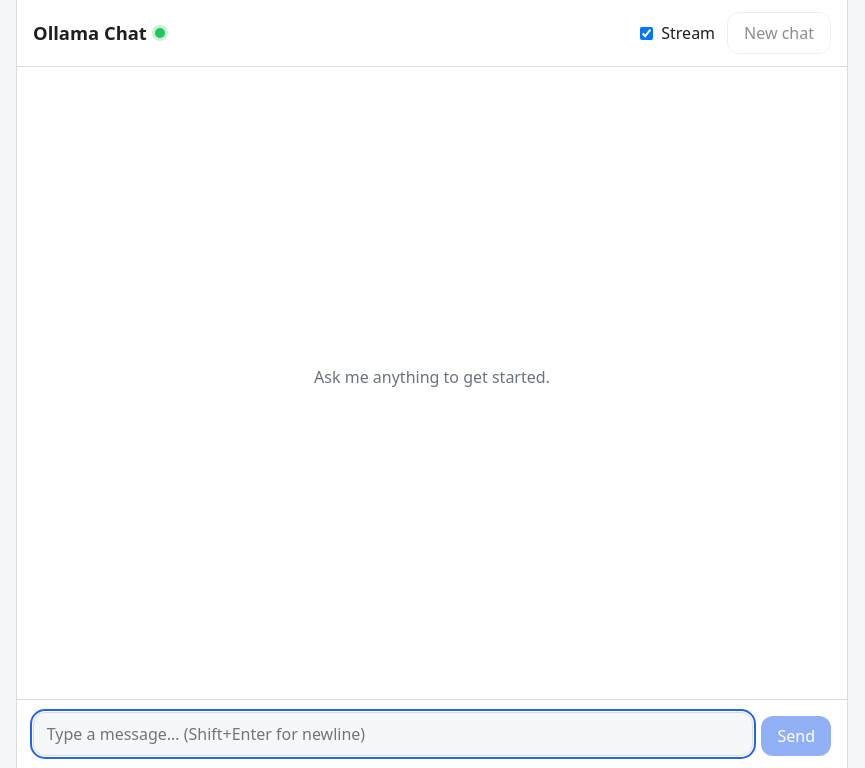
chat › can stop an in-flight request
The image size is (865, 768).
Type "Hi" into the text box labelled "message" at (393, 734), box [33,712,754,756]
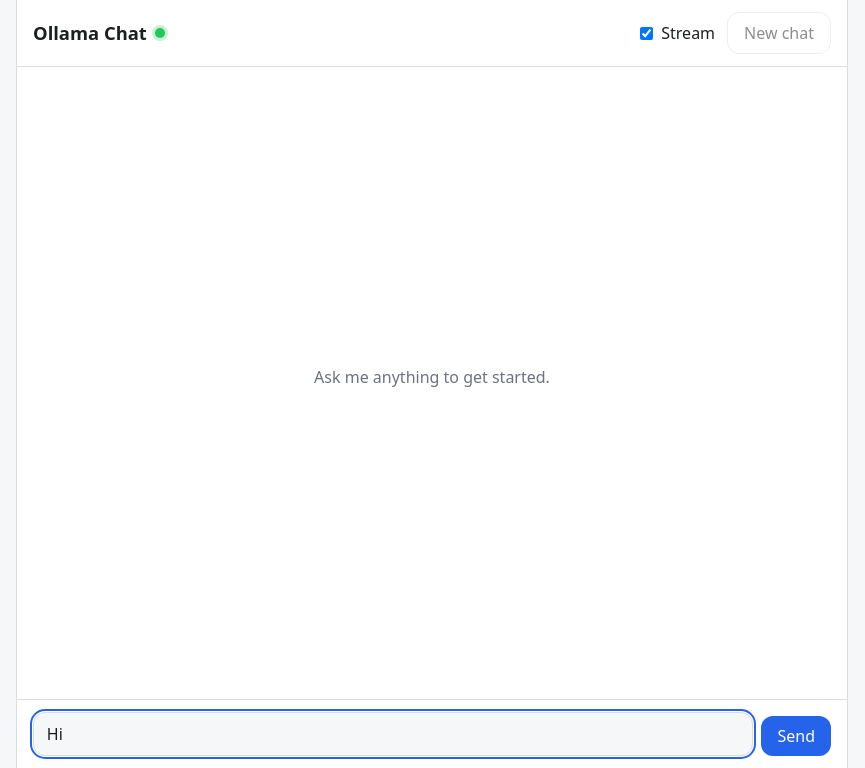
Press Enter
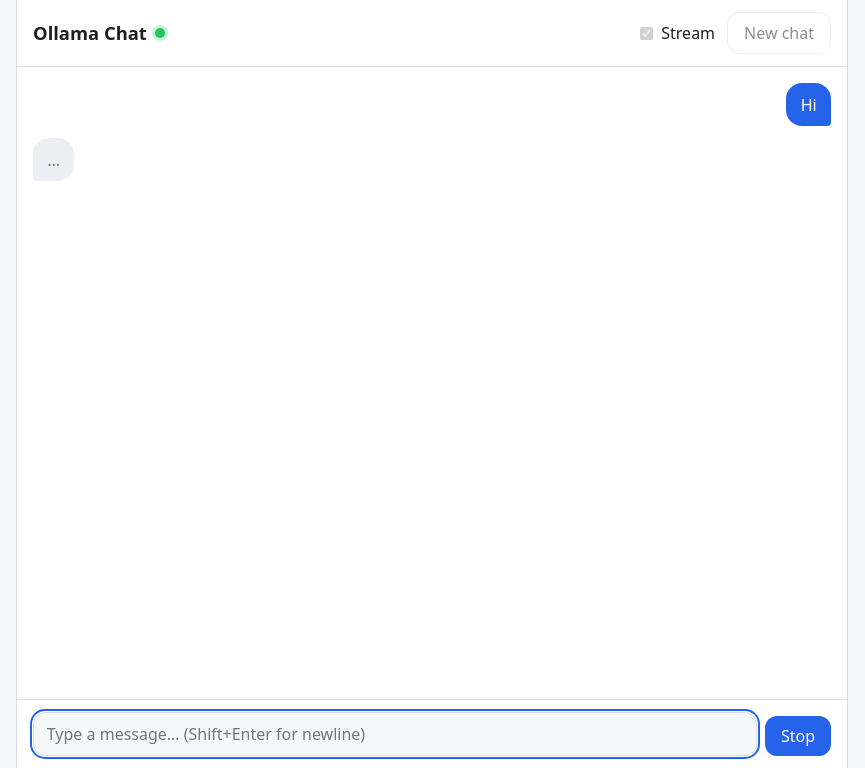
Click the button "Stop" at (798, 736), box [765,716,831,756]
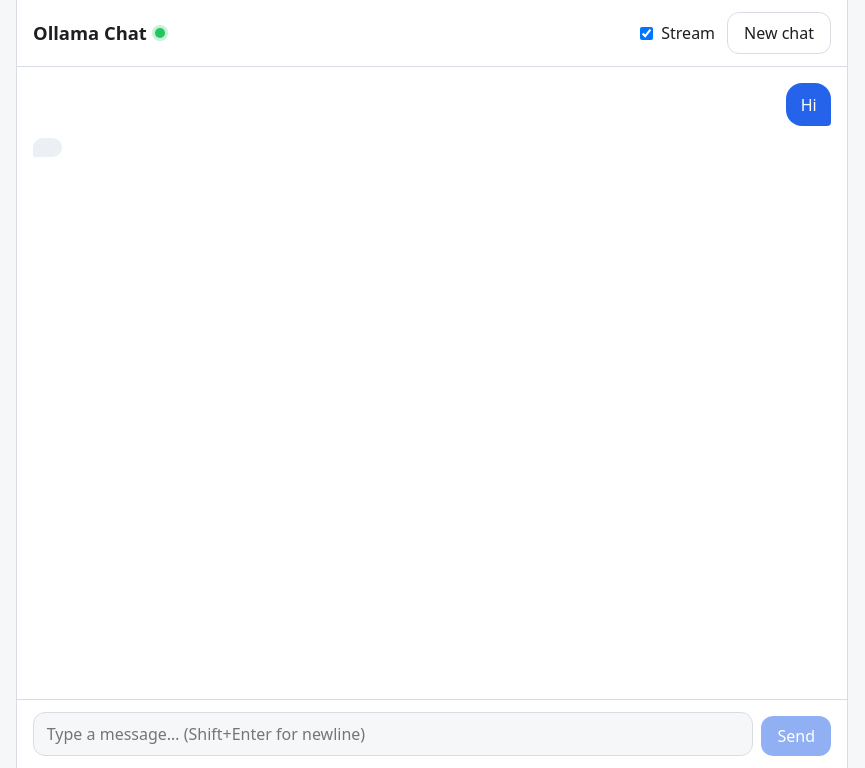
Now the button "Send" is shown, box [762,716,831,756]
